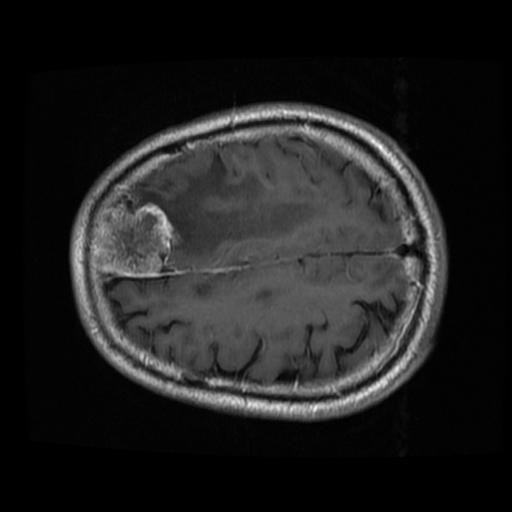meningioma: (97, 200, 179, 276)
